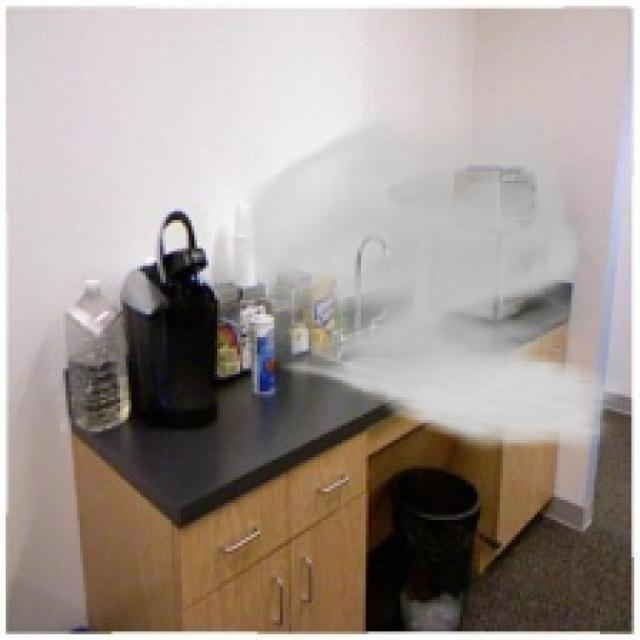smoke: (223, 106, 628, 454)
